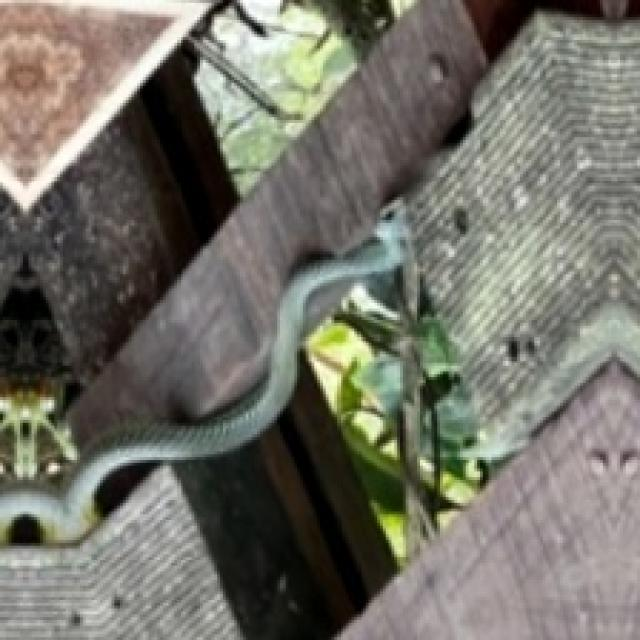paradise tree snake: (0, 206, 403, 540)
